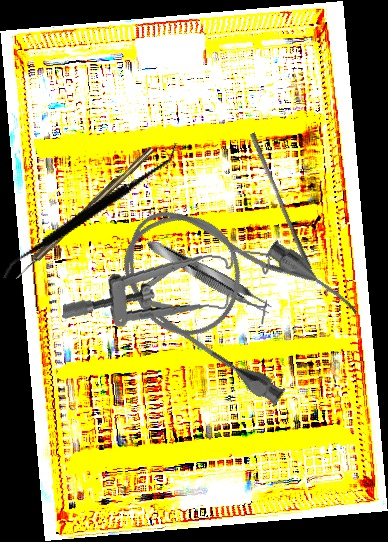Cannula: (94, 171, 367, 417)
Hook Surgical: (11, 145, 156, 282)
Pusher: (244, 132, 318, 271)
Spatula Surgical: (2, 100, 178, 321)
Speculum: (61, 231, 273, 343)
Tissue Forceps: (142, 232, 276, 320)
